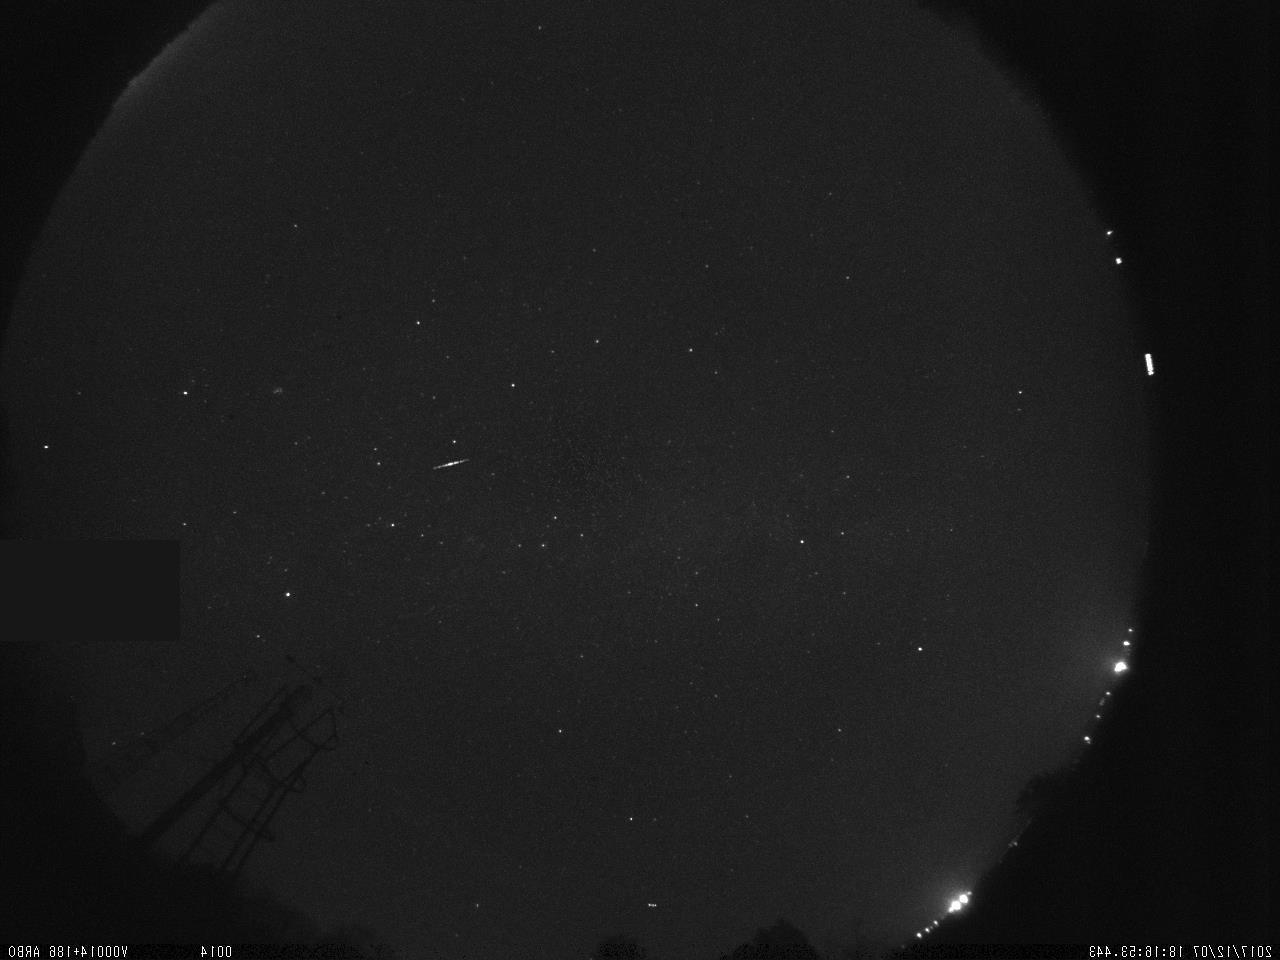meteor: (421, 450, 480, 486)
